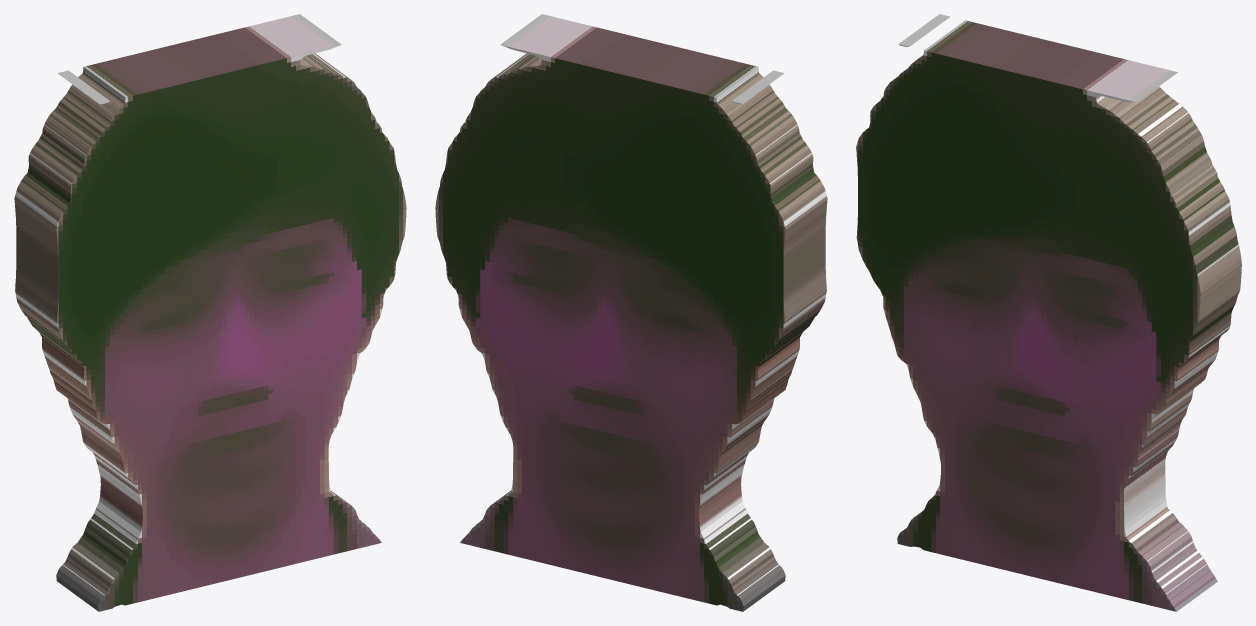
File: retard.glb
3 views of the same model, side by side, from view 1: azimuth 30°, elevation 25°; view 2: azimuth 150°, elevation 25°; view 3: azimuth 330°, elevation 25° (orthographic).
Parts seen in each view (by area): view 1: Plane.001; view 2: Plane.001; view 3: Plane.001.
Part boxes in pixels (box(x1,y1,x2,y2)): Plane.001: box(14, 14, 406, 611); Plane.001: box(435, 14, 827, 611); Plane.001: box(856, 14, 1241, 611).
Bounding box in the file's own units: 1.44 × 2 × 0.3.
Materials: 1 (1 with a texture image).
